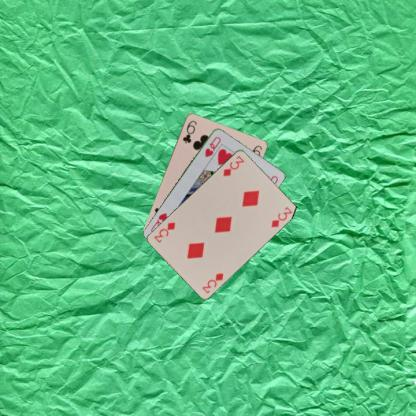3d: (221, 152, 245, 178), (199, 270, 225, 294)
6c: (180, 118, 198, 144)
Qh: (202, 134, 222, 158)
